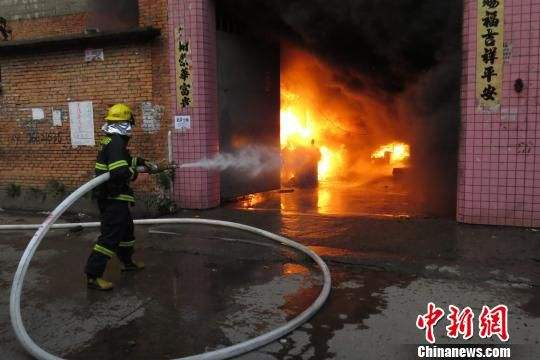fire: (279, 45, 362, 194), (372, 131, 421, 176)
